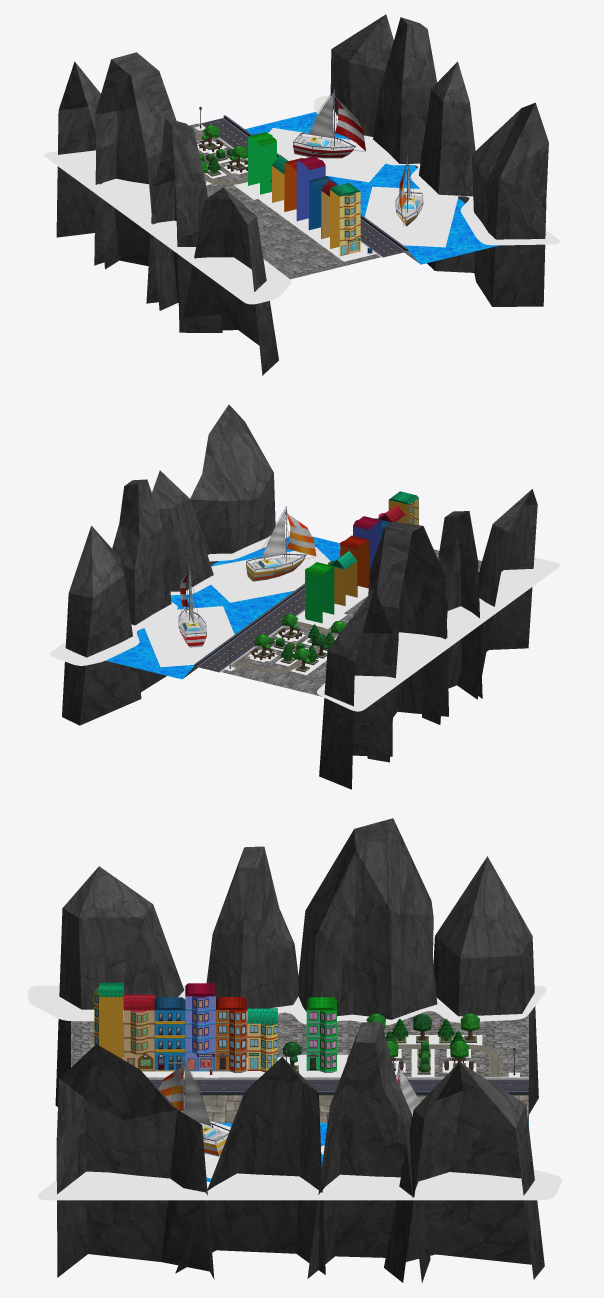
File: City_08.fbx
The picture shows the model from 3 angles, top to bottom: view 1: azimuth 30°, elevation 25°; view 2: azimuth 150°, elevation 25°; view 3: azimuth 270°, elevation 25°; orthographic projection. The views are drawn at different scales.
Visible parts, largest first — view 1: City_08; view 2: City_08; view 3: City_08.
Boxes of the visible parts, x1=… form: City_08: x1=44, y1=14, x2=559, y2=375; City_08: x1=50, y1=404, x2=559, y2=789; City_08: x1=28, y1=818, x2=561, y2=1282.
Bounding box in the file's own units: 22617 × 13384 × 25170.
